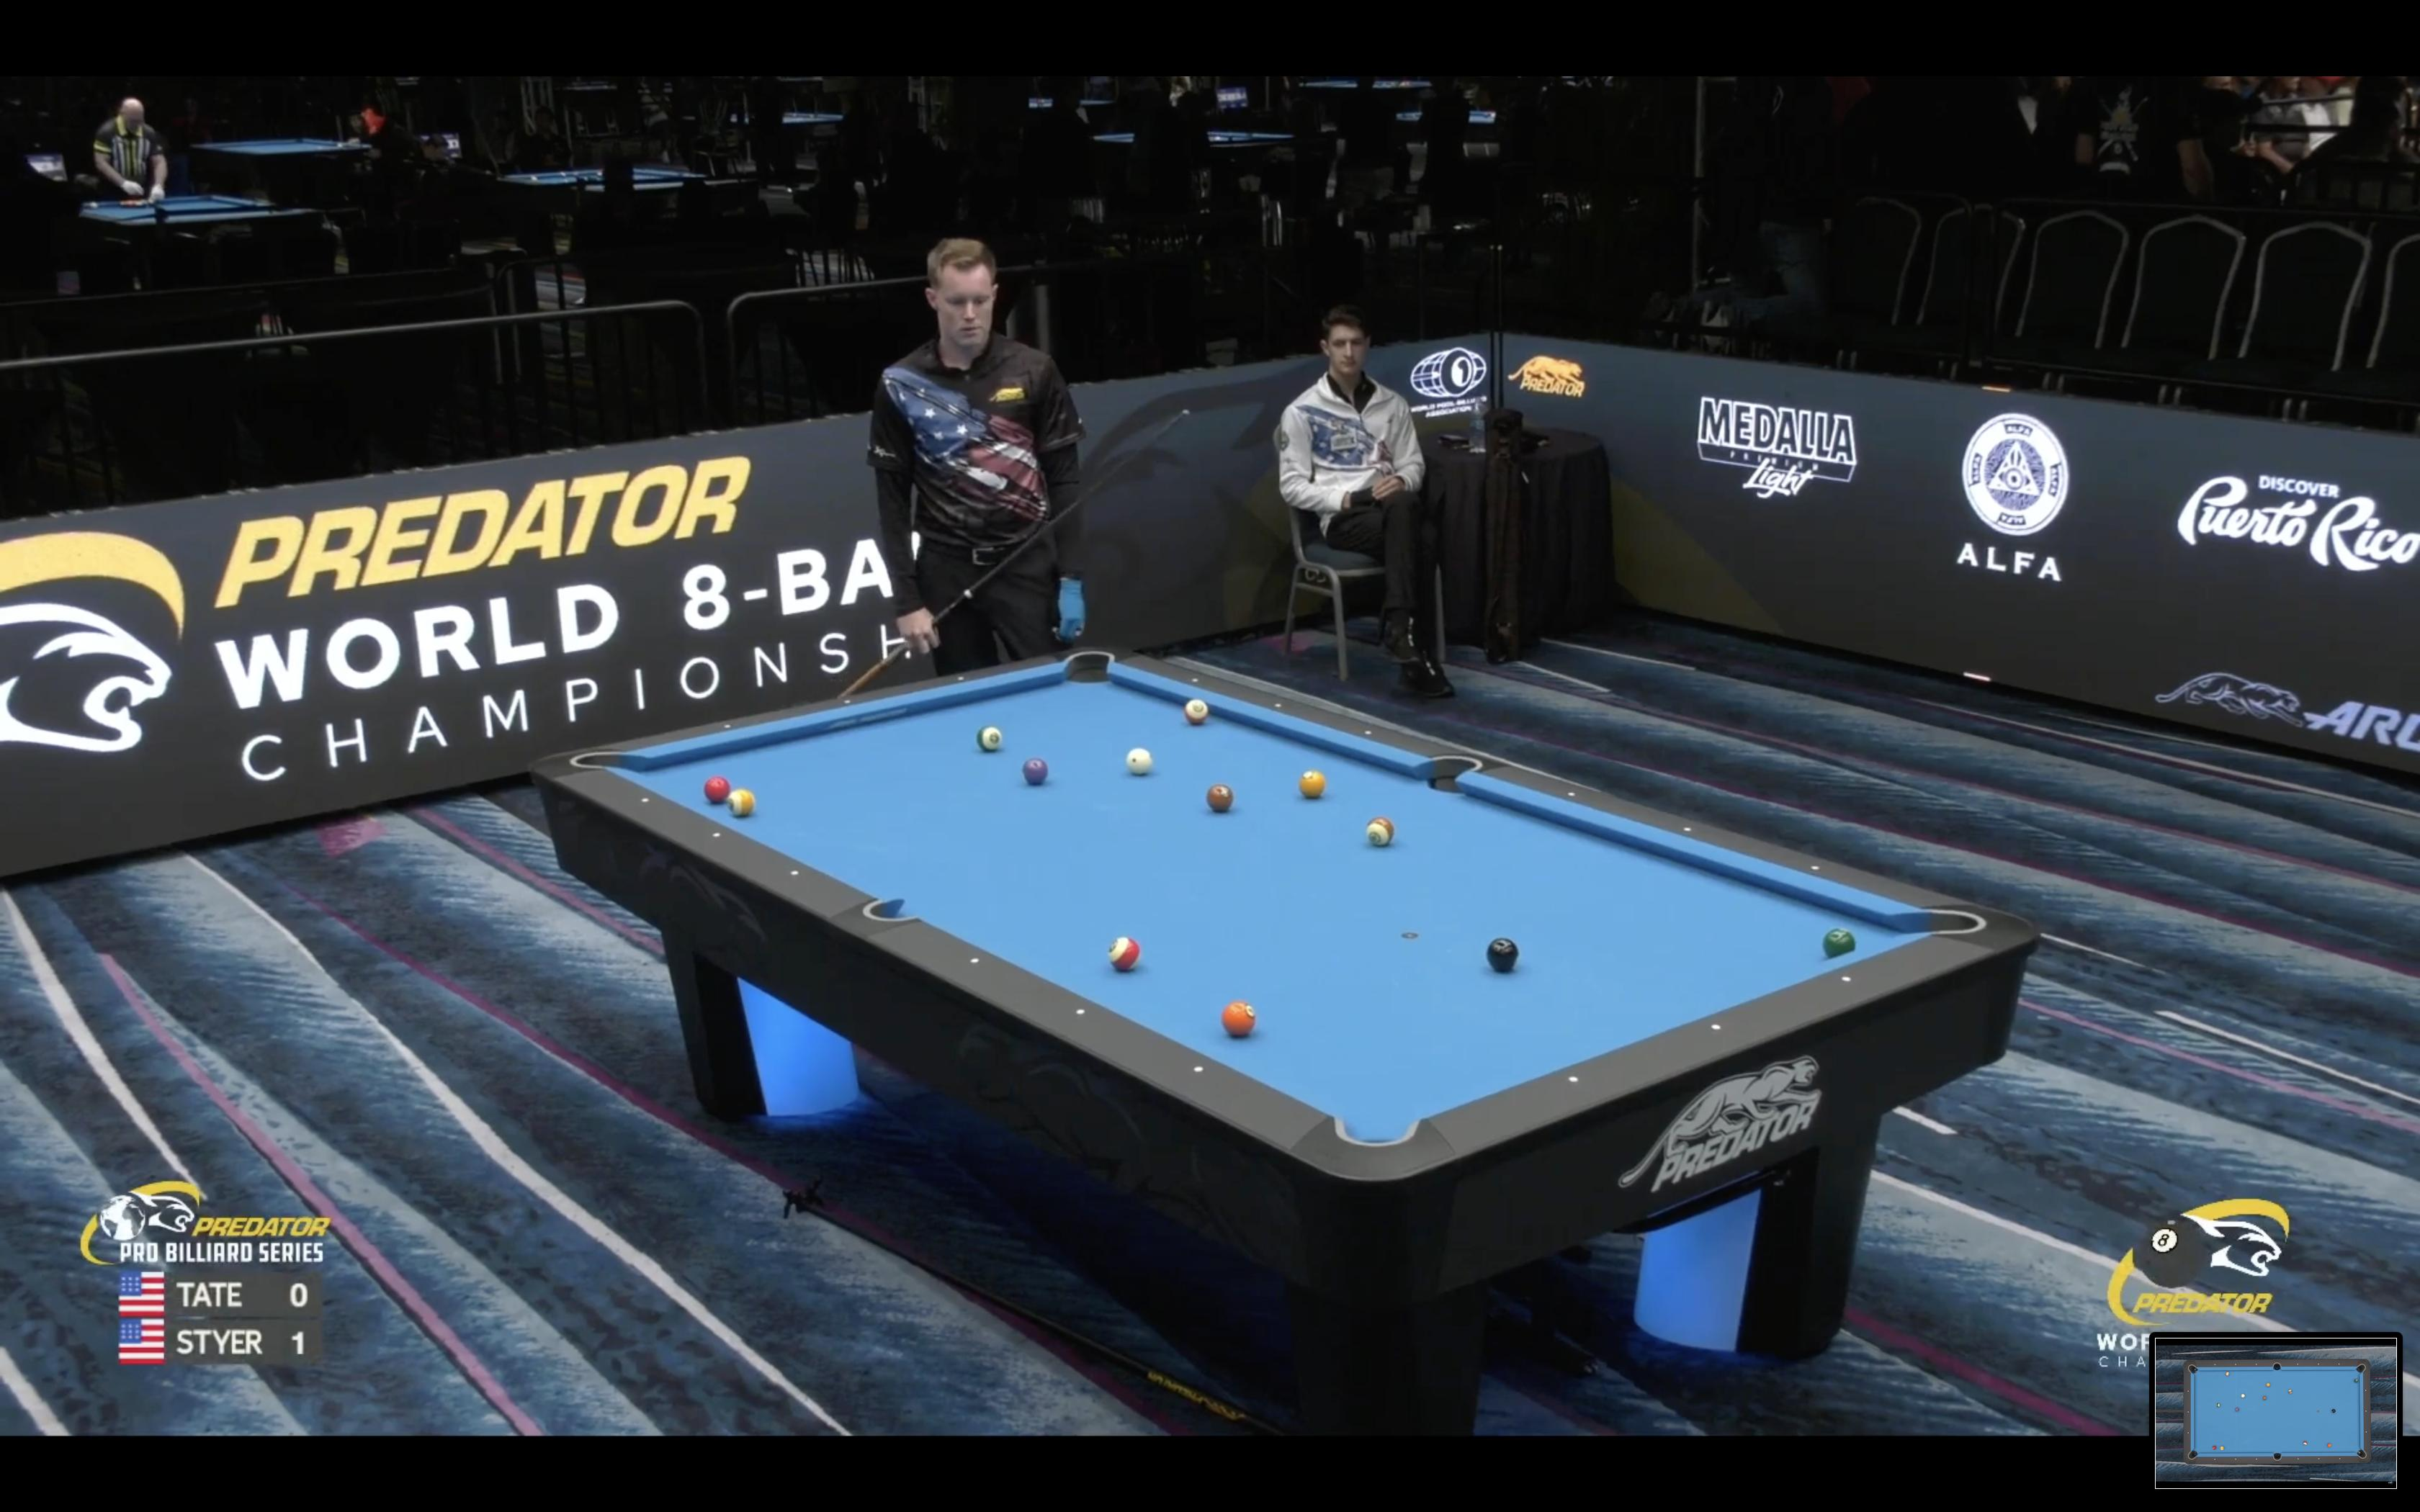Black: (1486, 937, 1519, 972)
Cue: (1127, 747, 1153, 775)
Dot: (1193, 1066, 1204, 1073), (1075, 1009, 1085, 1016), (1842, 975, 1852, 982), (789, 869, 800, 874), (1810, 866, 1821, 871), (1711, 1024, 1721, 1029), (970, 958, 979, 963), (713, 833, 721, 838), (641, 798, 650, 803), (1683, 827, 1692, 833), (1570, 1077, 1578, 1082), (843, 699, 850, 704), (1192, 678, 1199, 683), (1364, 730, 1371, 735), (1274, 704, 1282, 707), (1568, 793, 1577, 796), (958, 676, 963, 681), (725, 725, 732, 728)
Solid: (1221, 1002, 1254, 1036), (1822, 928, 1856, 960), (1298, 770, 1326, 798), (1206, 784, 1234, 812), (704, 775, 730, 803), (1023, 758, 1049, 784)
Striped: (1108, 937, 1141, 970), (727, 787, 756, 817), (1366, 817, 1396, 847), (1183, 699, 1209, 723), (977, 725, 1002, 751)
